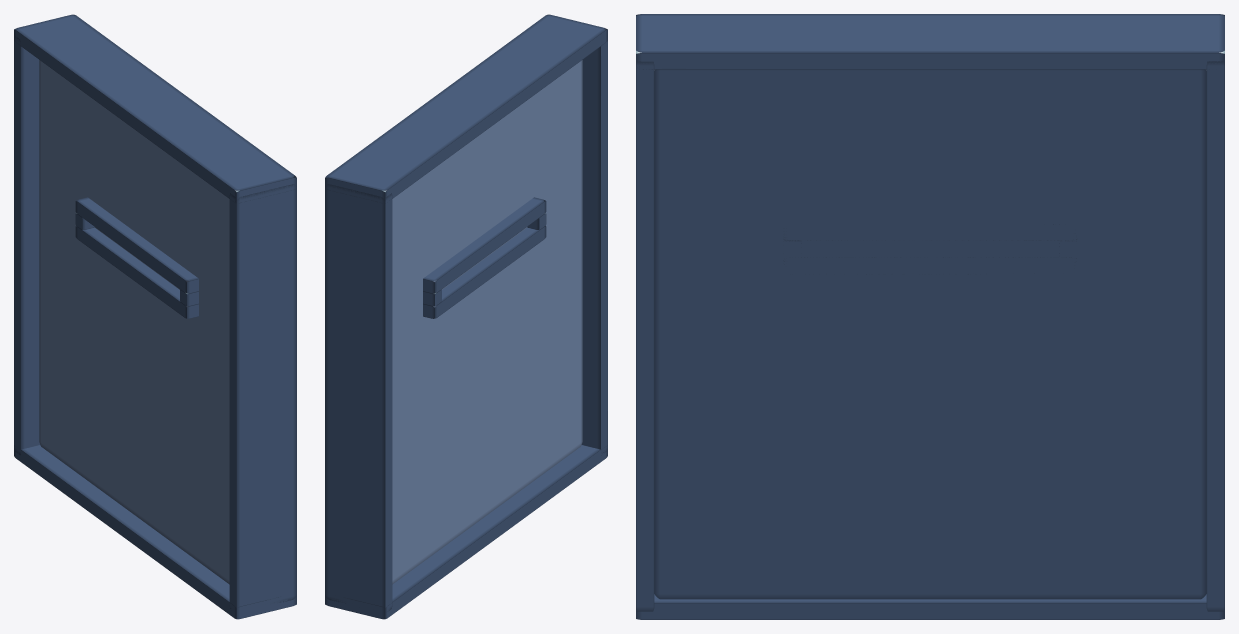
Rendered from MailSlot.fbx.
3 renders of one model, left to right at view 1: azimuth 30°, elevation 25°; view 2: azimuth 150°, elevation 25°; view 3: azimuth 270°, elevation 25°, orthographic. The views are drawn at different scales.
Parts seen in each view (by area): view 1: cuboid, cuboid_2, cuboid_3, cuboid_1, cuboid_4, cuboid_5, cuboid_6; view 2: cuboid, cuboid_1, cuboid_3, cuboid_2, cuboid_4, cuboid_5, cuboid_6; view 3: cuboid, cuboid_3, cuboid_4, cuboid_2, cuboid_1, cuboid_5.
Part boxes in pixels (left/top/right/bottom): cuboid: left=39, top=60, right=229, bottom=584; cuboid_2: left=229, top=184, right=296, bottom=608; cuboid_3: left=14, top=14, right=296, bottom=203; cuboid_1: left=14, top=36, right=40, bottom=455; cuboid_4: left=14, top=445, right=296, bottom=619; cuboid_5: left=75, top=197, right=198, bottom=293; cuboid_6: left=75, top=226, right=198, bottom=318; cuboid: left=392, top=60, right=582, bottom=584; cuboid_1: left=325, top=184, right=392, bottom=611; cuboid_3: left=325, top=14, right=607, bottom=203; cuboid_2: left=581, top=37, right=607, bottom=455; cuboid_4: left=325, top=445, right=607, bottom=619; cuboid_5: left=423, top=197, right=546, bottom=293; cuboid_6: left=423, top=226, right=546, bottom=318; cuboid: left=654, top=69, right=1206, bottom=599; cuboid_3: left=636, top=14, right=1224, bottom=69; cuboid_4: left=636, top=594, right=1224, bottom=619; cuboid_2: left=636, top=50, right=654, bottom=611; cuboid_1: left=1206, top=50, right=1224, bottom=611; cuboid_5: left=783, top=224, right=1076, bottom=240.
Size of the model in its own units: 6.25 by 42.5 by 40.
Materials: 1 (1 with a texture image).
